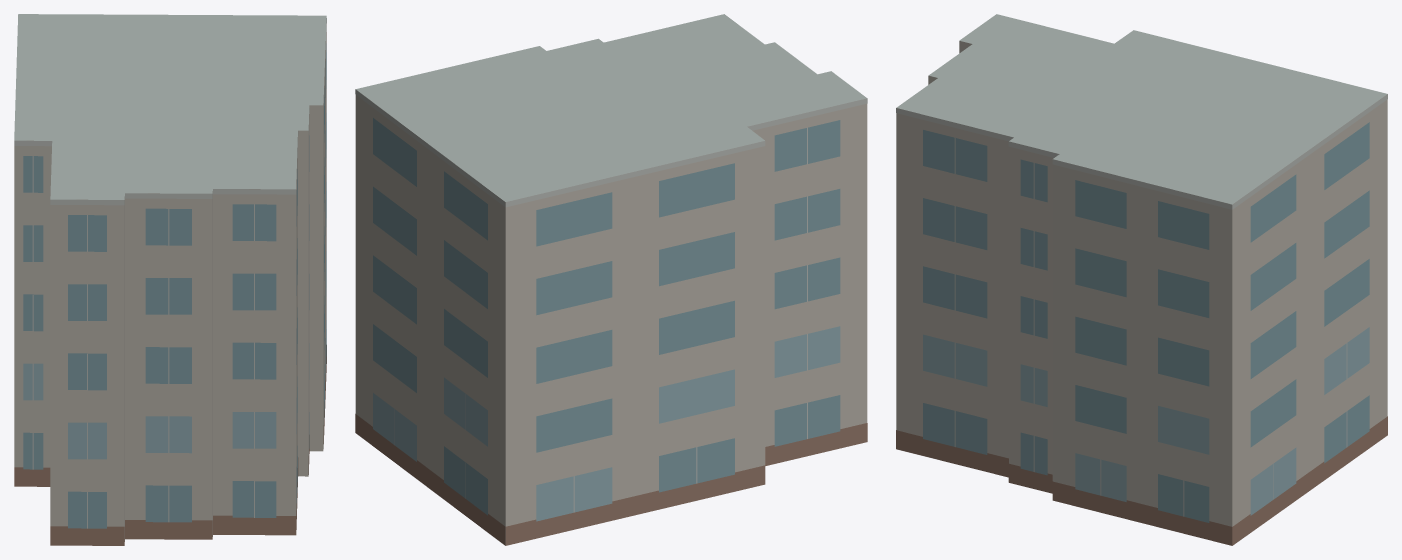
The model's file is survey-upis-33044073.glb.
3 views of the same model, side by side, from view 1: azimuth 30°, elevation 25°; view 2: azimuth 150°, elevation 25°; view 3: azimuth 270°, elevation 25° (orthographic).
Parts seen in each view (by area): view 1: survey-upis-33044073.tmp; view 2: survey-upis-33044073.tmp; view 3: survey-upis-33044073.tmp.
Part boxes in pixels (x1=…): survey-upis-33044073.tmp: x1=14, y1=14, x2=326, y2=545; survey-upis-33044073.tmp: x1=355, y1=14, x2=867, y2=545; survey-upis-33044073.tmp: x1=896, y1=14, x2=1387, y2=545.
Size of the model in its own units: 19.17 by 16 by 20.89.
